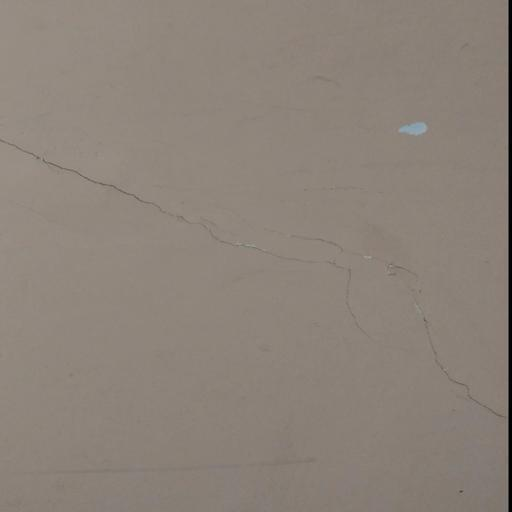minor_crack: (1, 126, 507, 420)
